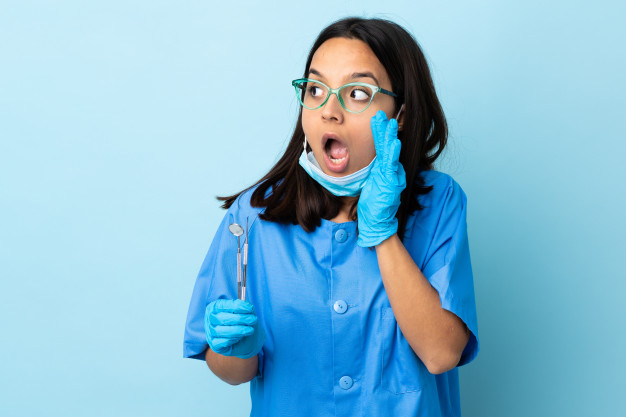mask_weared_incorrect: (291, 56, 410, 203)
